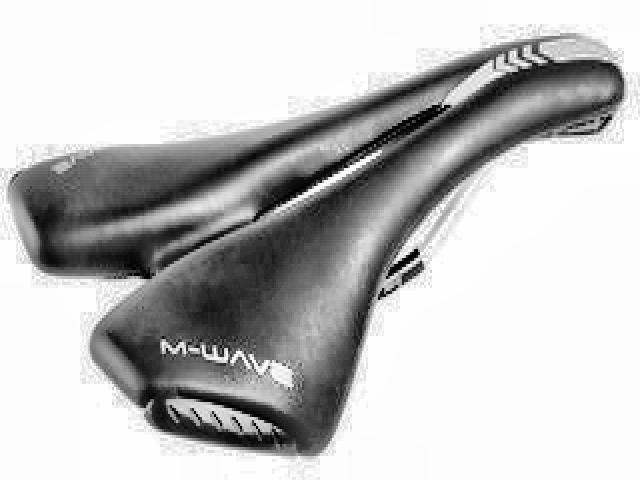saddle: (8, 31, 628, 452)
